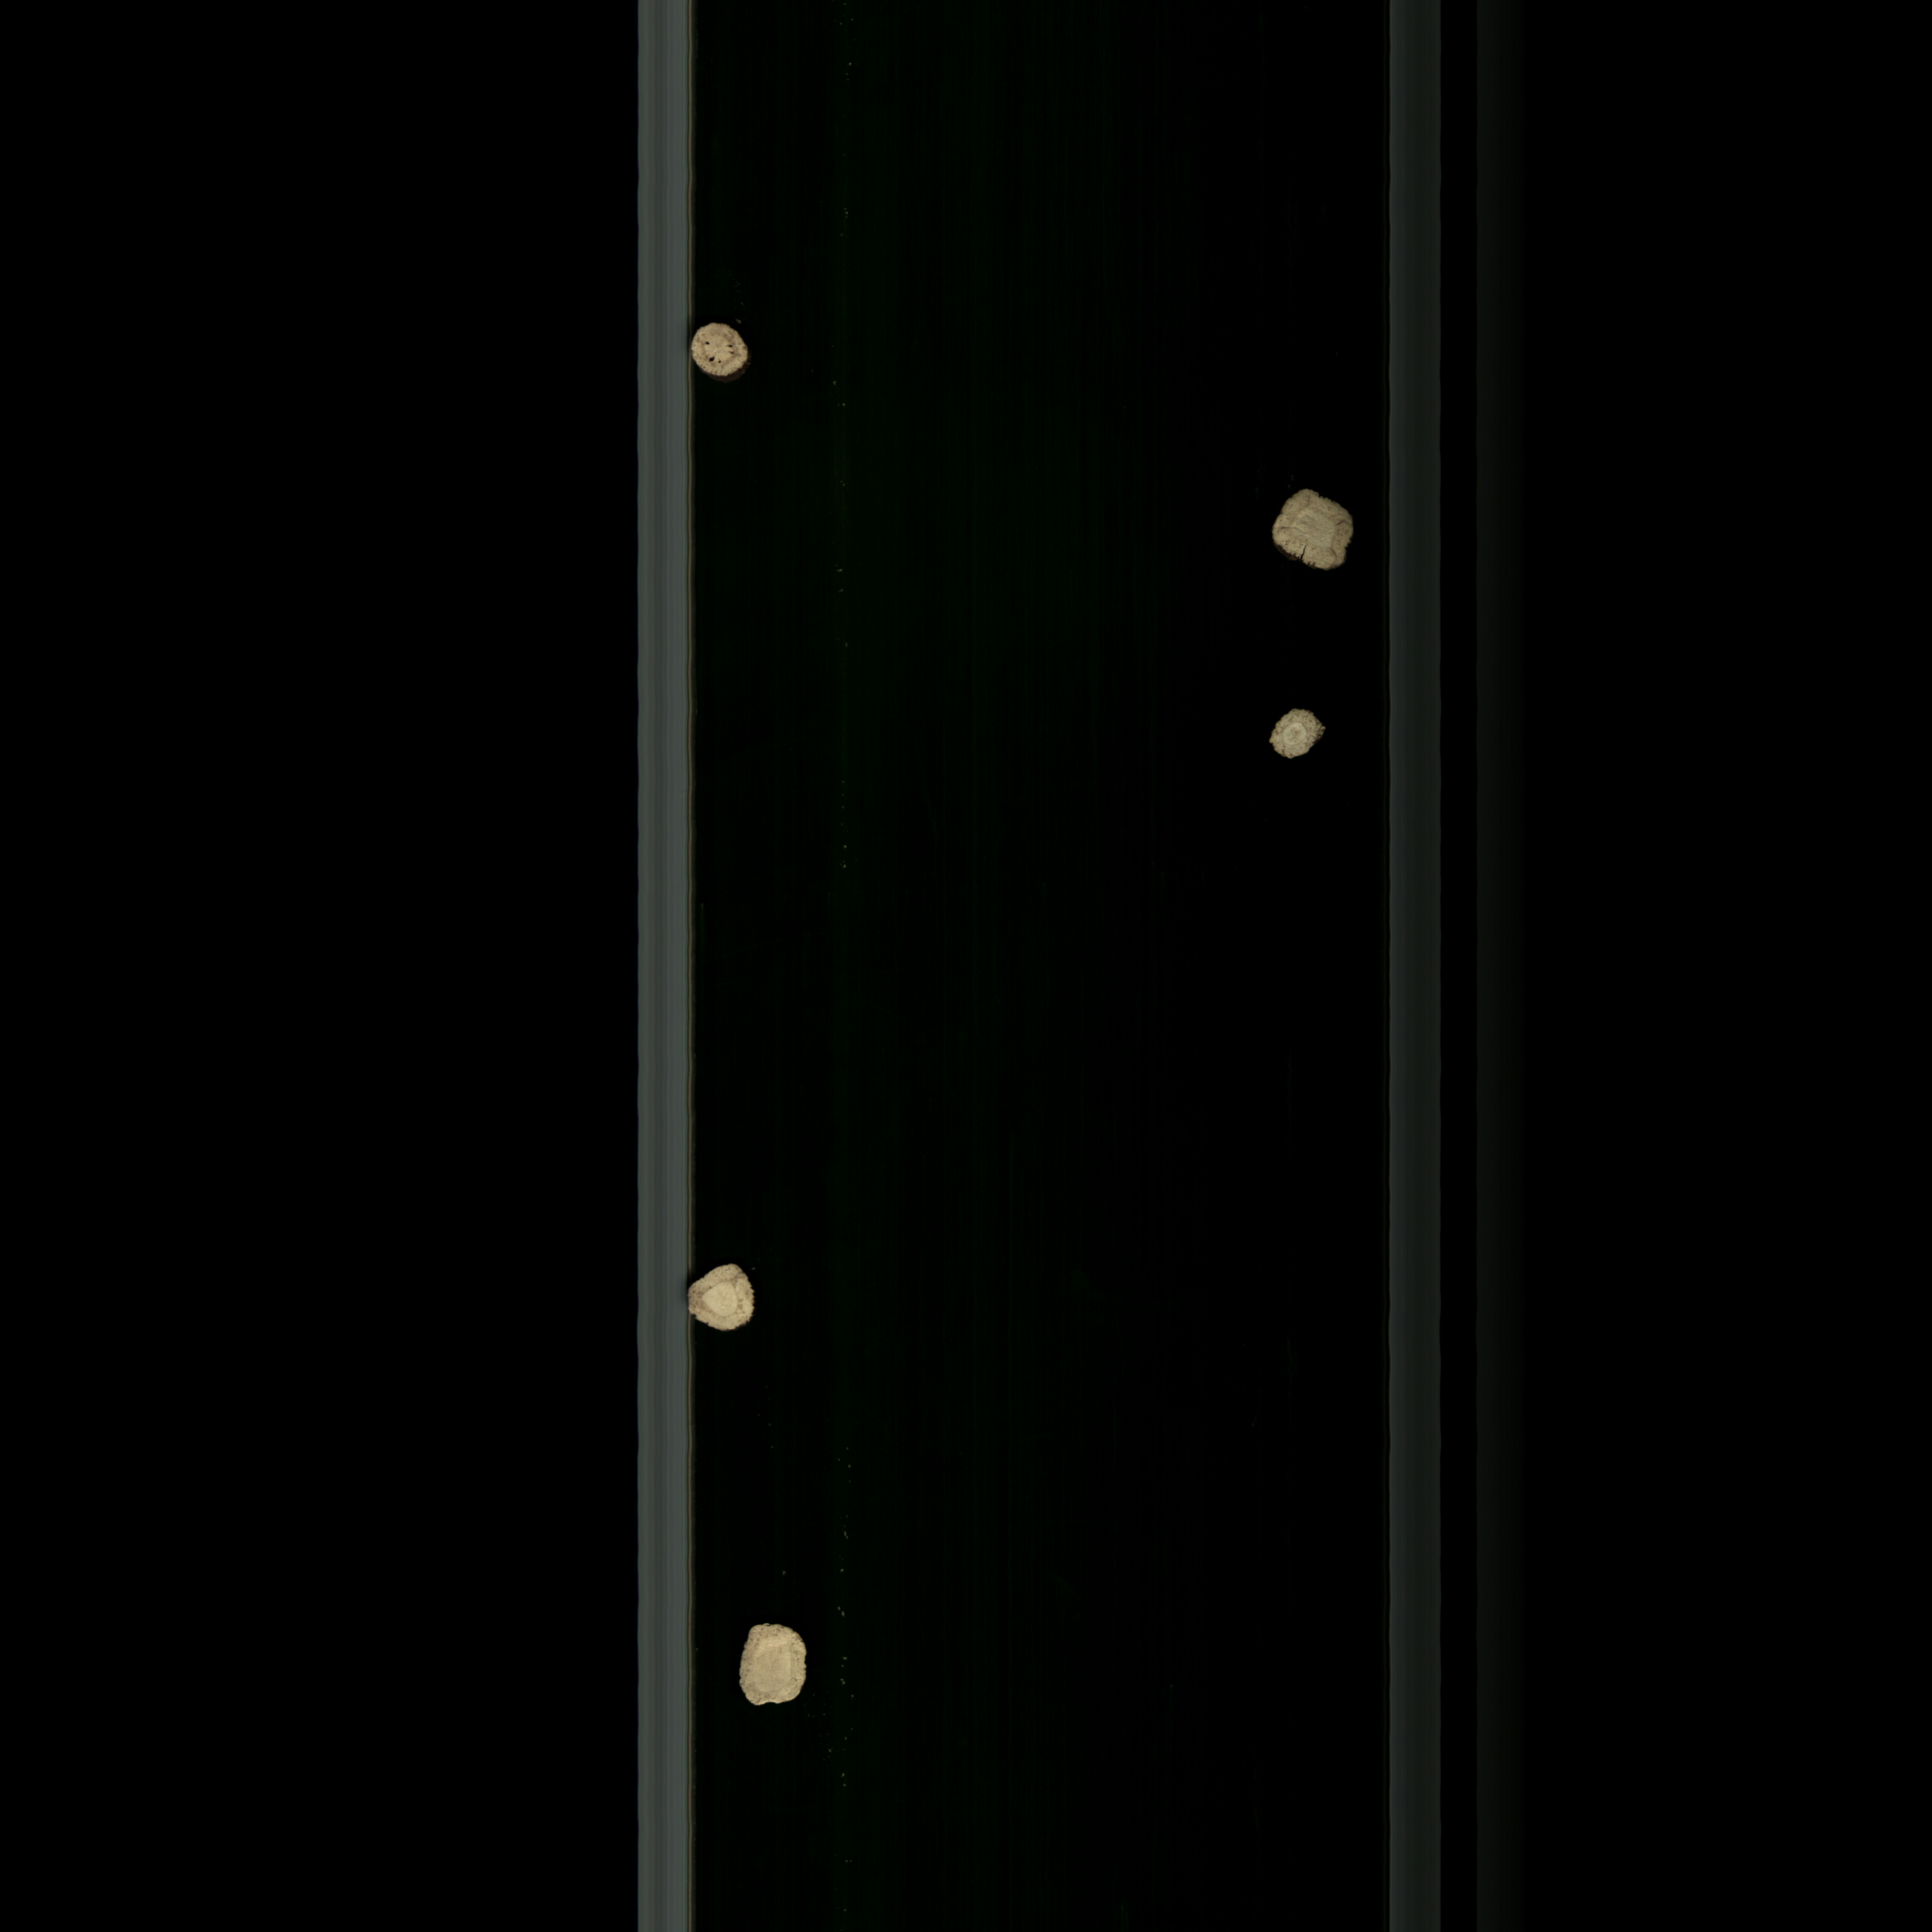distortion: (1263, 479, 1362, 580), (1256, 692, 1332, 771)
hole: (690, 315, 754, 389)
